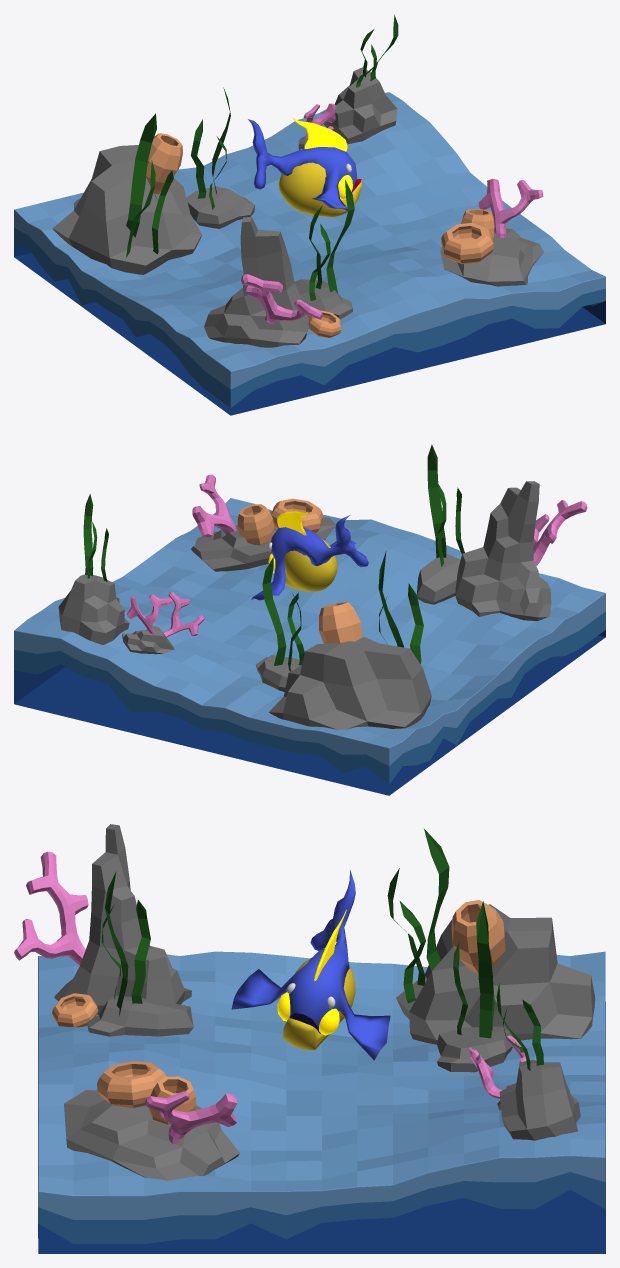
The model's file is Drish.fbx.
3 renders of one model, top to bottom at view 1: azimuth 30°, elevation 25°; view 2: azimuth 150°, elevation 25°; view 3: azimuth 270°, elevation 25°, orthographic. The views are drawn at different scales.
Parts seen in each view (by area): view 1: Seafloor, Cube.003, Cube.002, Icosphere, Cube, Cube.004, Algae.001, Cube.006, Cylinder, Cube.010, Cube.007, Cylinder.002 (+6 smaller); view 2: Seafloor, Cube.003, Cube.002, Icosphere, Cube, Cube.004, Algae.002, Cube.005, Cylinder.002, Algae, Cube.007, Cube.010 (+8 smaller); view 3: Seafloor, Cube.003, Icosphere, Cube.004, Cube.002, Cube, Cube.005, Cube.010, Algae.001, Cube.006, Cylinder.002, Cylinder (+7 smaller).
Part boxes in pixels (<box>): Seafloor: <box>14,92,605,415</box>; Cube.003: <box>53,145,201,274</box>; Cube.002: <box>204,217,309,347</box>; Icosphere: <box>248,118,361,217</box>; Cube: <box>322,67,397,143</box>; Cube.004: <box>440,228,543,286</box>; Algae.001: <box>126,113,173,257</box>; Cube.006: <box>186,186,254,228</box>; Cylinder: <box>441,222,493,264</box>; Cube.010: <box>241,274,322,323</box>; Cube.007: <box>478,178,543,239</box>; Cylinder.002: <box>146,133,182,194</box>; Seafloor: <box>14,498,605,795</box>; Cube.003: <box>269,637,431,729</box>; Cube.002: <box>455,481,551,620</box>; Icosphere: <box>251,511,368,600</box>; Cube: <box>58,574,129,644</box>; Cube.004: <box>191,510,336,571</box>; Algae.002: <box>427,444,464,566</box>; Cube.005: <box>417,554,460,604</box>; Cylinder.002: <box>319,601,362,643</box>; Algae: <box>262,557,304,671</box>; Cube.007: <box>192,474,237,537</box>; Cube.010: <box>533,500,587,565</box>; Seafloor: <box>38,951,605,1253</box>; Cube.003: <box>396,904,595,1044</box>; Icosphere: <box>231,870,390,1060</box>; Cube.004: <box>64,1090,239,1180</box>; Cube.002: <box>54,824,191,1014</box>; Cube: <box>499,1060,580,1140</box>; Cube.005: <box>87,995,193,1036</box>; Cube.010: <box>14,851,88,965</box>; Algae.001: <box>387,829,449,1003</box>; Cube.006: <box>437,1026,512,1072</box>; Cylinder.002: <box>451,900,505,974</box>; Cylinder: <box>97,1061,166,1107</box>.
Size of the model in its own units: 800 by 387 by 834.
